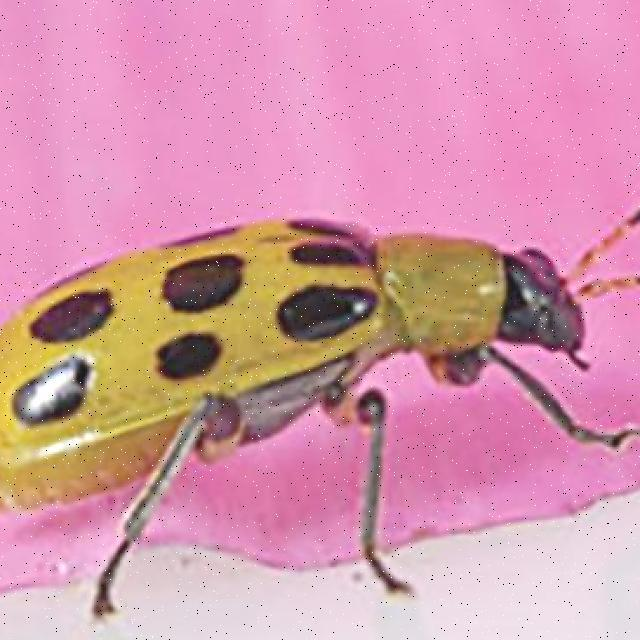gusano_verde: (0, 178, 640, 618)
